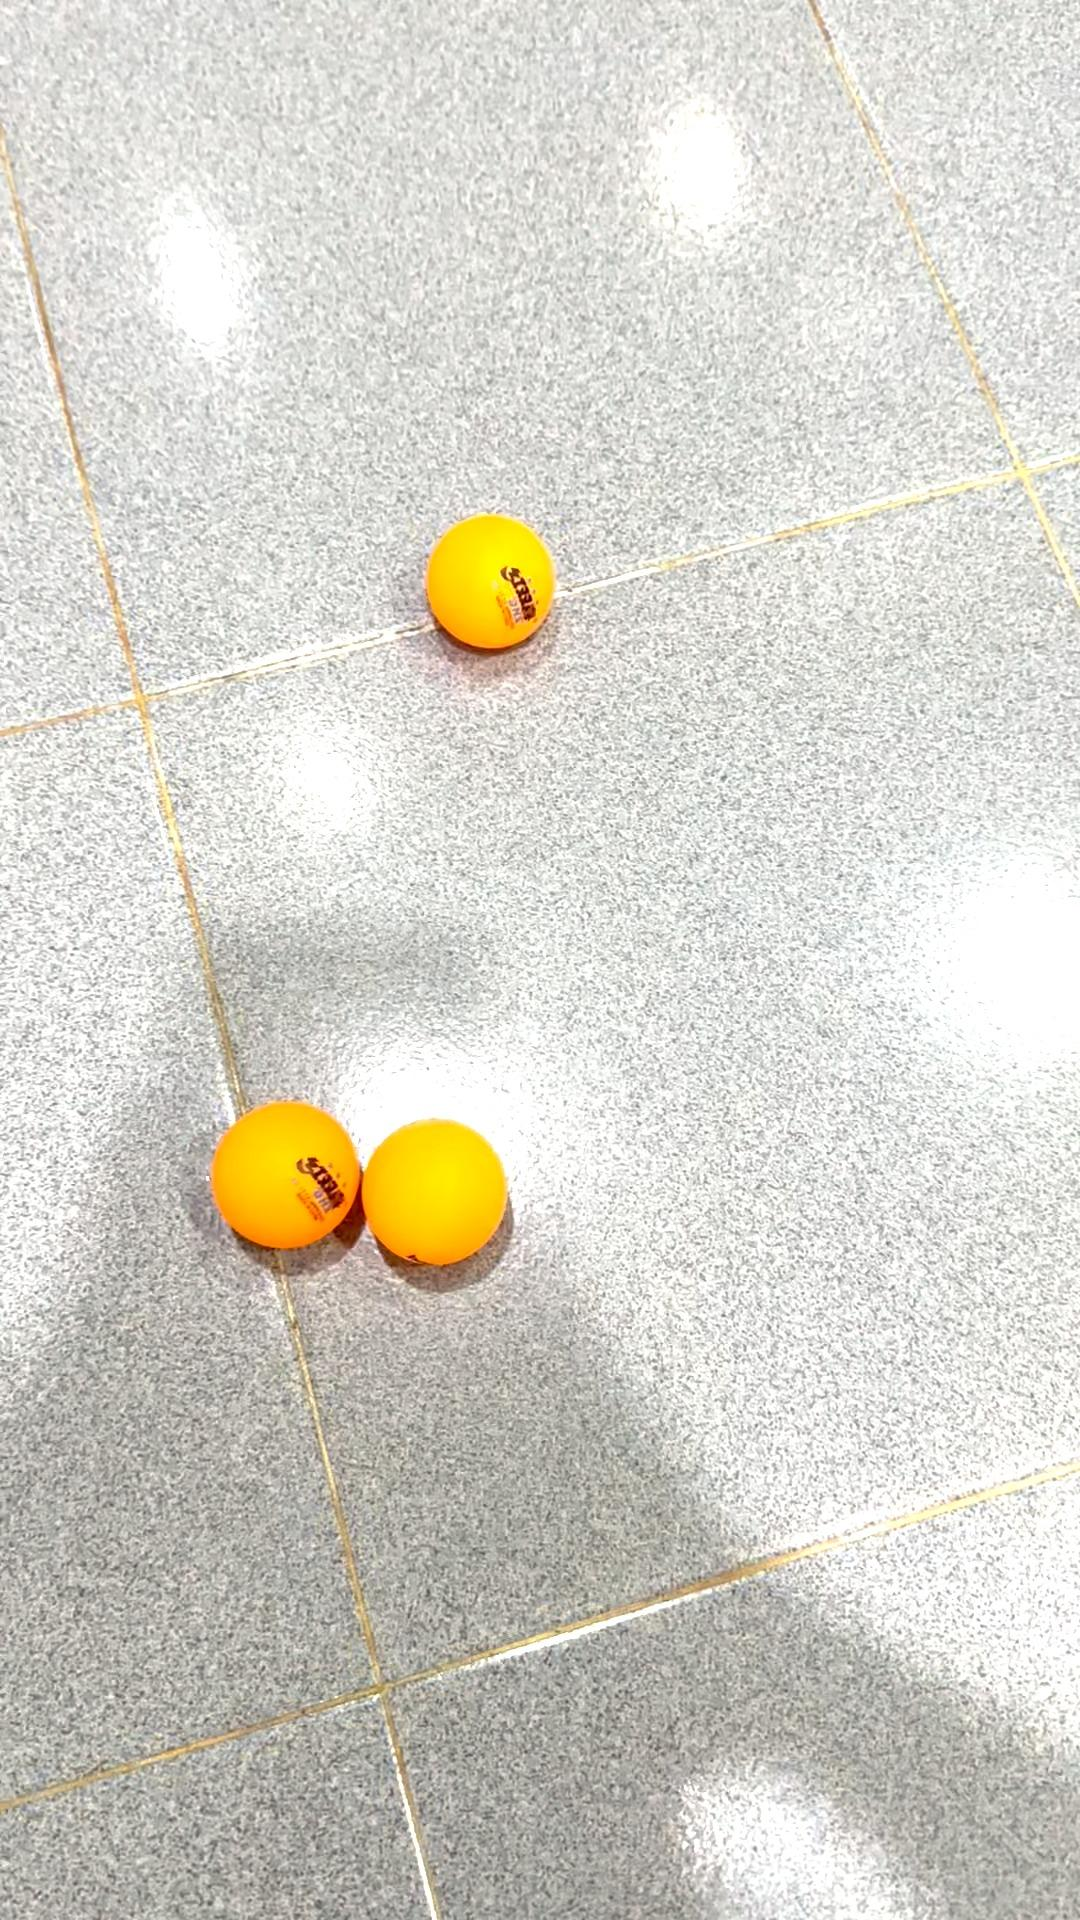oball: (357, 1117, 517, 1282), (411, 508, 571, 671), (208, 1101, 367, 1259)
